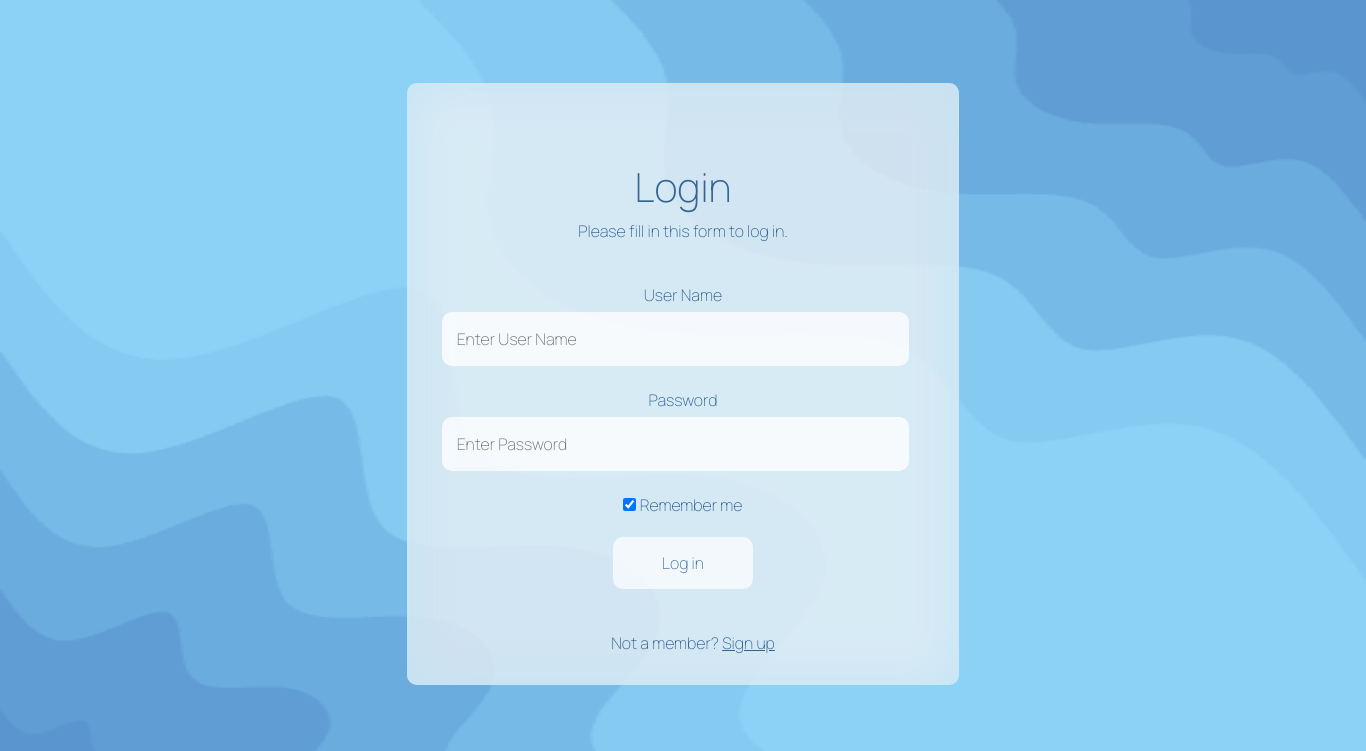
Scenario: Register Form › should render the register form correctly
What coordinates should you click on to do the following:
click the text with test id "switch_to_register"
I would click on:
 (748, 643)
Its box is [722,632,775,654].
(page scrolled)
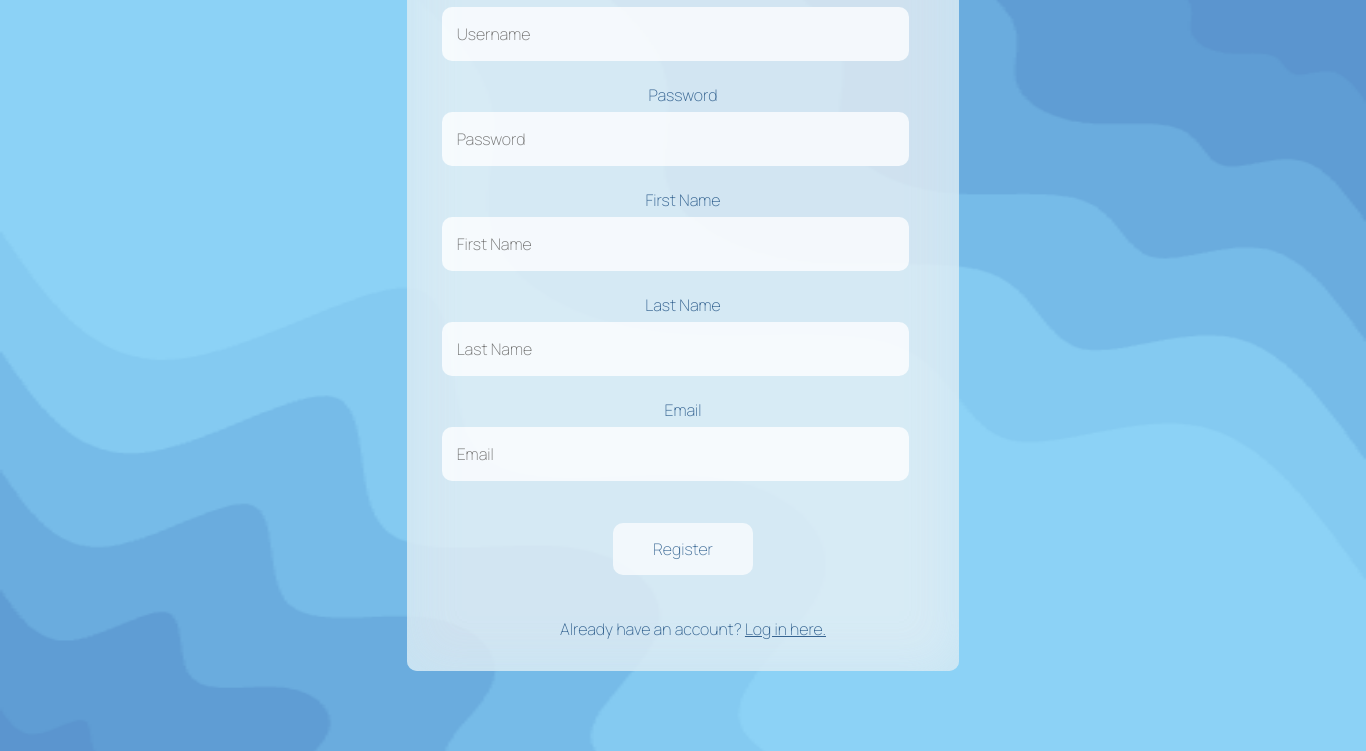
expect the field with test id "firstname_input" is shown: met, box [442,217,909,271]
expect the text "First Name" is shown: met, box [646,188,721,212]
expect the field with test id "lastname_input" is shown: met, box [442,322,909,376]
